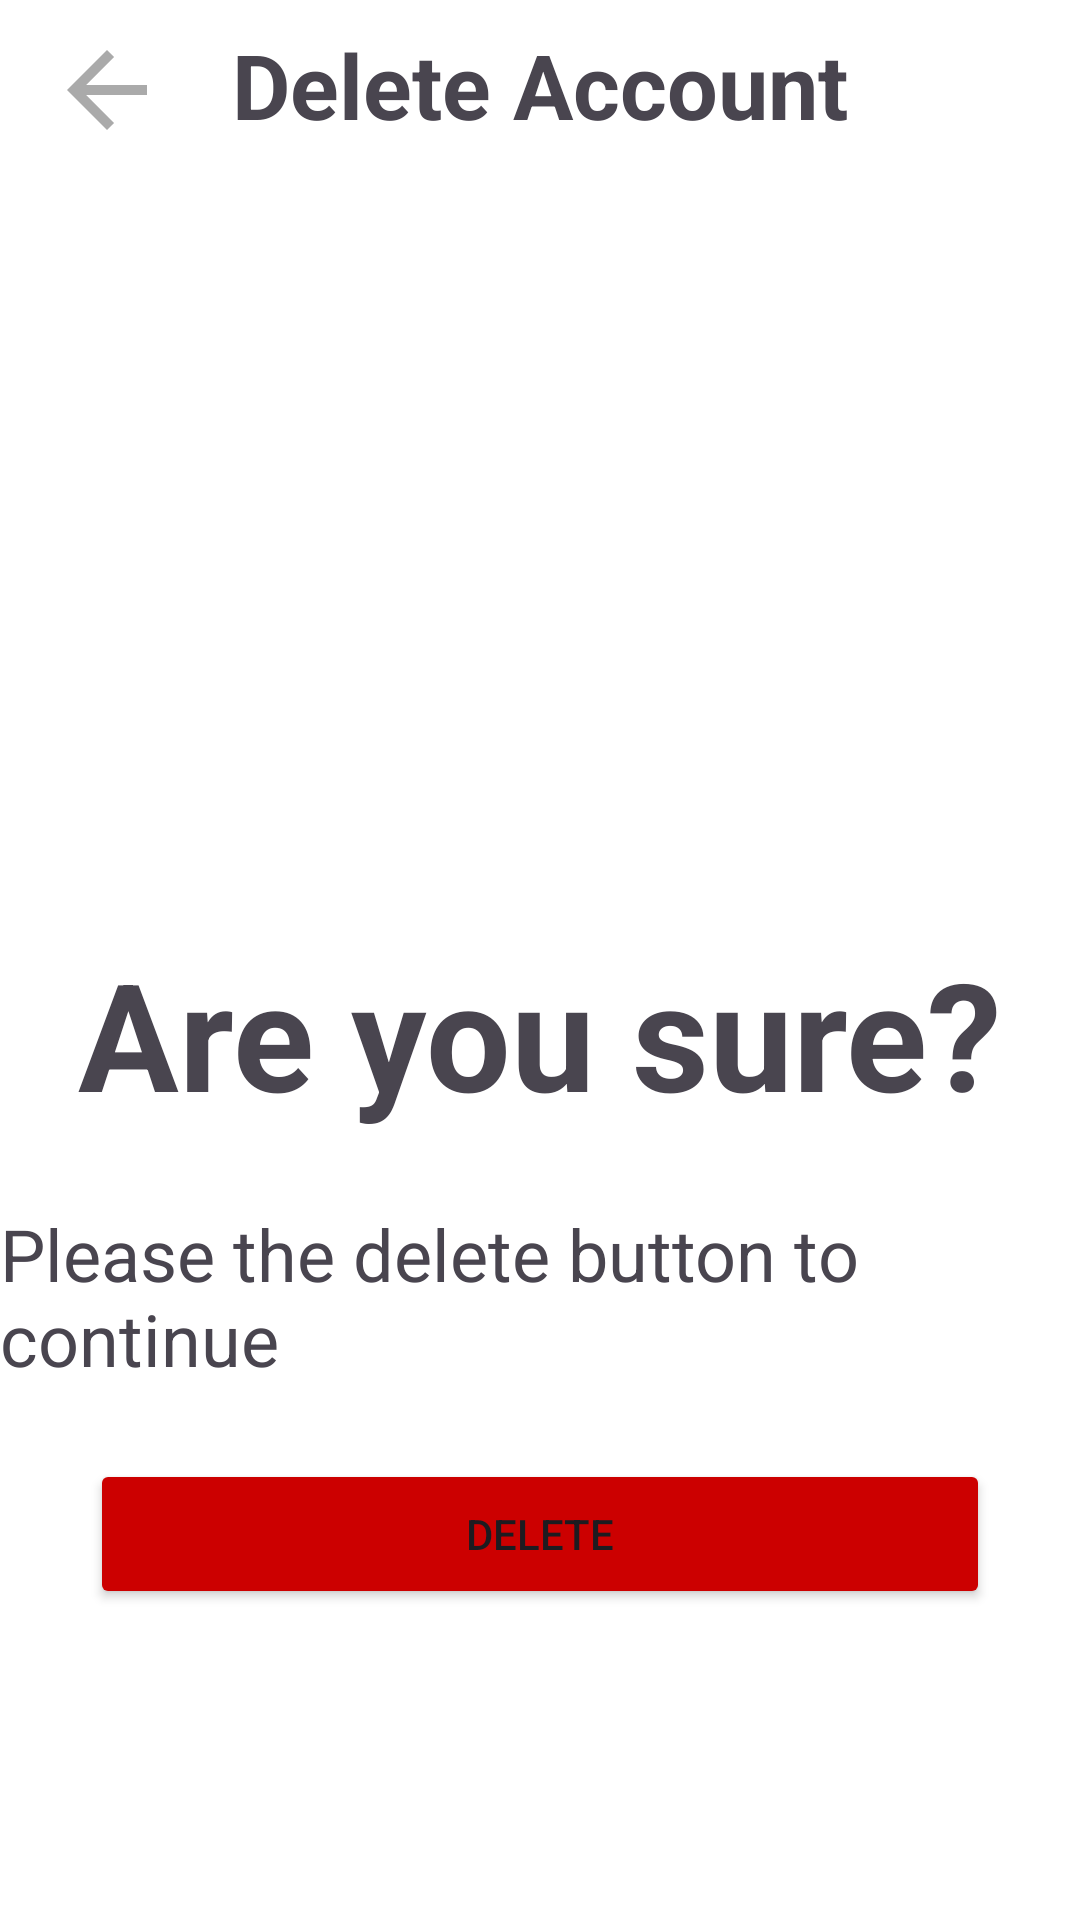

Icon click points for this 1080*1920 phone screenshot, format point (x, y):
arrow back: point (107, 90)
